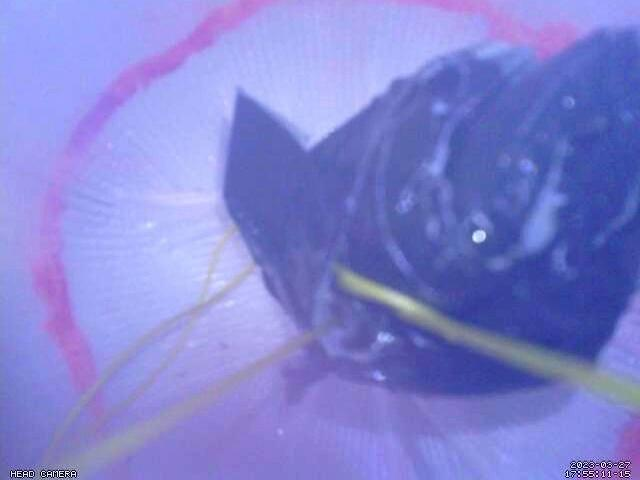head: (29, 1, 640, 480)
